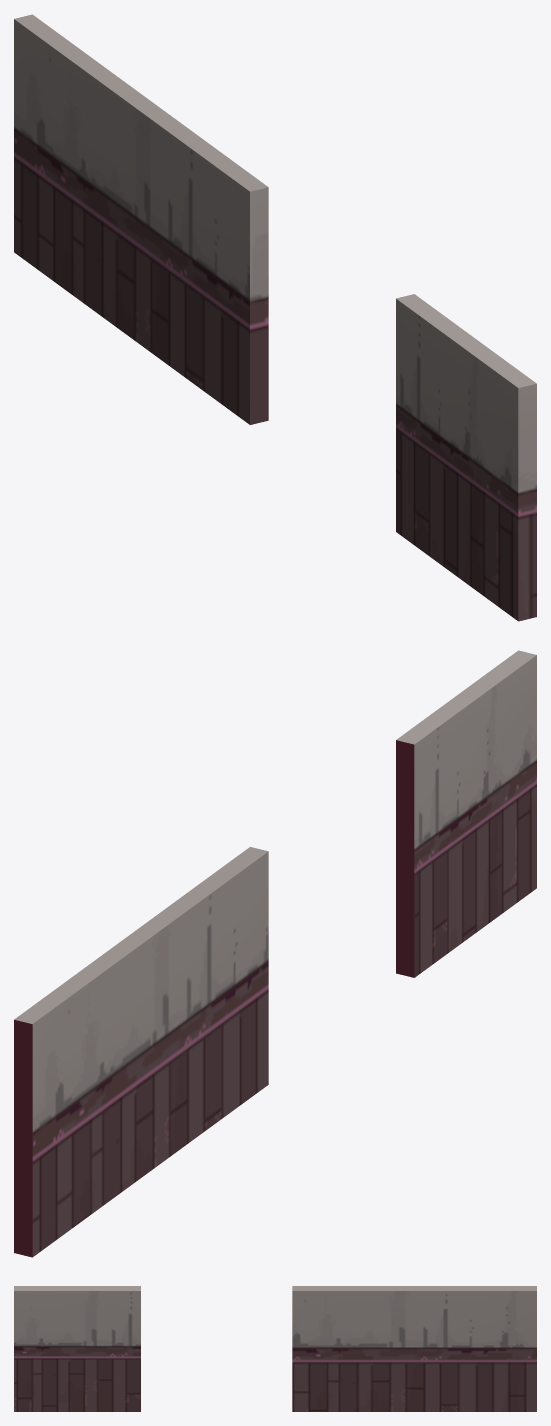
File: ParedeLateral.fbx
3 views of the same model, one above another, from view 1: azimuth 30°, elevation 25°; view 2: azimuth 150°, elevation 25°; view 3: azimuth 270°, elevation 25° (orthographic). The views are drawn at different scales.
Parts seen in each view (by area): view 1: ParedeLateral; view 2: ParedeLateral; view 3: ParedeLateral.
Boxes of the visible parts, x1,y1,x2,y2 form: ParedeLateral: [14, 14, 536, 621]; ParedeLateral: [14, 650, 536, 1257]; ParedeLateral: [14, 1286, 536, 1411].
Bounding box in the file's own units: 17.57 × 827 × 211.
